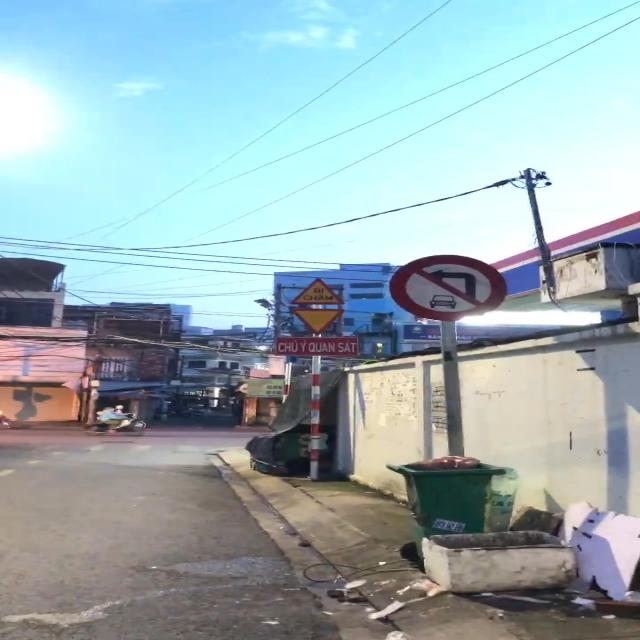Bien bao di cham: (284, 272, 349, 306)
Bien bao giao nhau voi duong uu tien: (281, 308, 349, 334)
